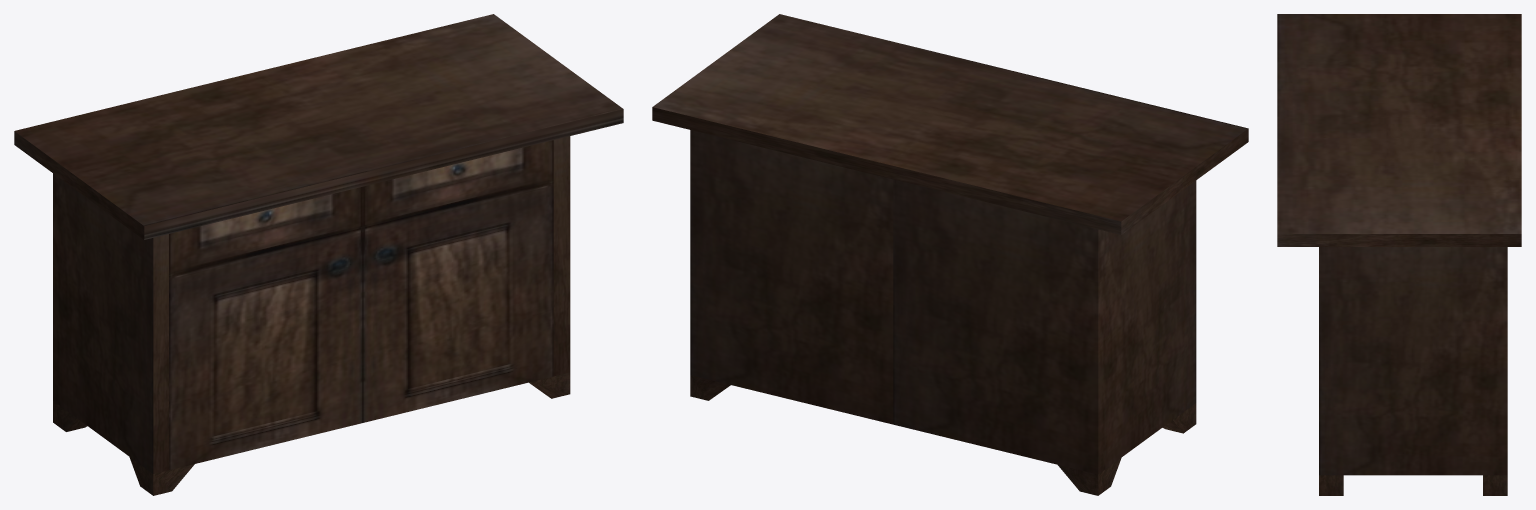
The model's file is cabinet_spanish_low.fbx.
3 views of the same model, side by side, from view 1: azimuth 30°, elevation 25°; view 2: azimuth 150°, elevation 25°; view 3: azimuth 270°, elevation 25° (orthographic). The views are drawn at different scales.
Visible parts, largest first — view 1: cabinet_low_spanish_cabinet_base, cabinet_spanish:cabinet_foot_1, cabinet_spanish:cabinet_foot_3; view 2: cabinet_low_spanish_cabinet_base, cabinet_spanish:cabinet_foot_4, cabinet_spanish:cabinet_foot_2; view 3: cabinet_low_spanish_cabinet_base, cabinet_spanish:cabinet_foot_3, cabinet_spanish:cabinet_foot_2.
Part boxes in pixels (box(x1,y1,x2,y2)): cabinet_low_spanish_cabinet_base: box(14, 14, 623, 473); cabinet_spanish:cabinet_foot_1: box(129, 457, 194, 495); cabinet_spanish:cabinet_foot_3: box(529, 372, 570, 398); cabinet_low_spanish_cabinet_base: box(652, 14, 1248, 474); cabinet_spanish:cabinet_foot_4: box(1058, 458, 1121, 495); cabinet_spanish:cabinet_foot_2: box(690, 375, 730, 400); cabinet_low_spanish_cabinet_base: box(1277, 14, 1521, 475); cabinet_spanish:cabinet_foot_3: box(1319, 475, 1343, 495); cabinet_spanish:cabinet_foot_2: box(1483, 475, 1507, 495).
Size of the model in its own units: 575 by 337 by 270.
Materials: 1 (1 with a texture image).
